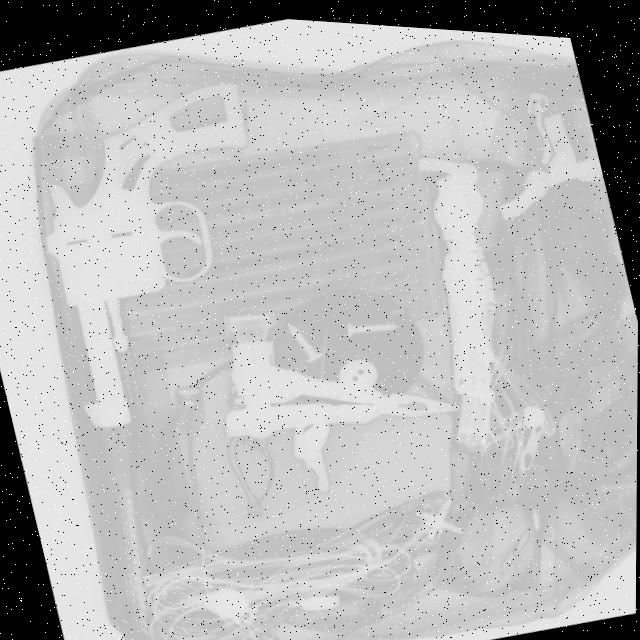pistol: (16, 66, 313, 441)
